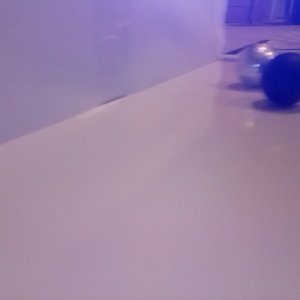alive_ball: (235, 42, 281, 89)
dead_ball: (261, 51, 300, 105)
